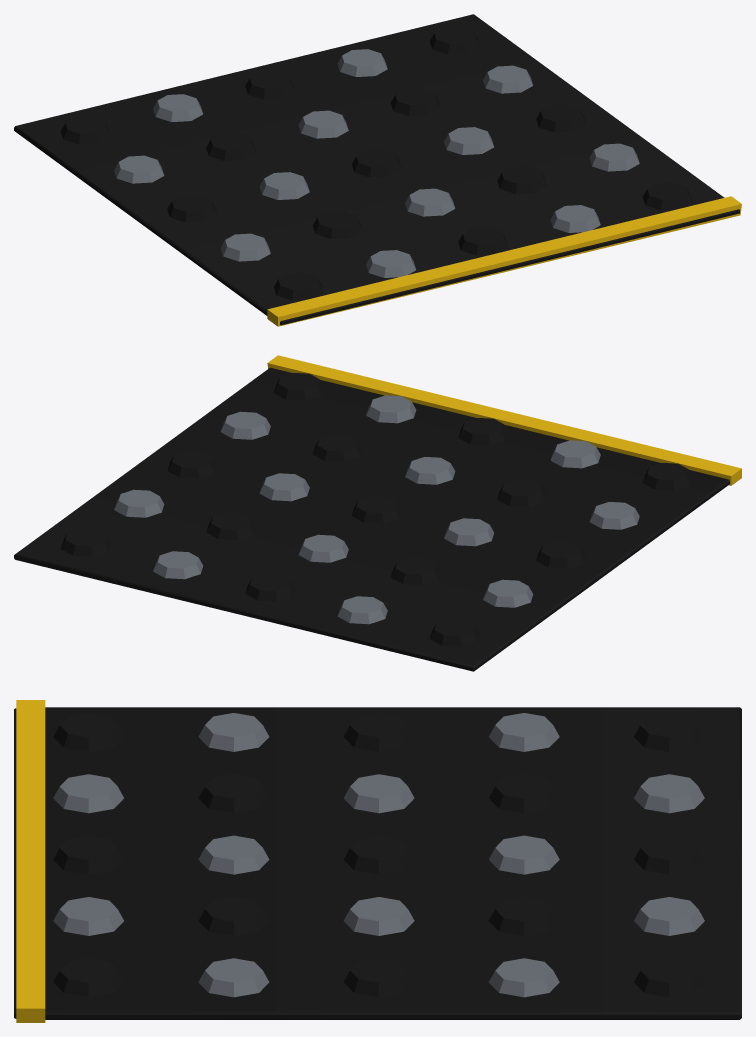
The model's file is floorpanel_rubber_studs_1x1.glb.
3 renders of one model, top to bottom at view 1: azimuth 30°, elevation 25°; view 2: azimuth 150°, elevation 25°; view 3: azimuth 270°, elevation 25°, orthographic. The views are drawn at different scales.
Parts seen in each view (by area): view 1: floorpanel_rubber_studs_1x1; view 2: floorpanel_rubber_studs_1x1; view 3: floorpanel_rubber_studs_1x1.
Part boxes in pixels (x1,y1,x2,y2): floorpanel_rubber_studs_1x1: (14, 14, 741, 326); floorpanel_rubber_studs_1x1: (14, 355, 741, 671); floorpanel_rubber_studs_1x1: (14, 700, 741, 1022).
Bounding box in the file's own units: 1.01 × 0.033 × 1.
